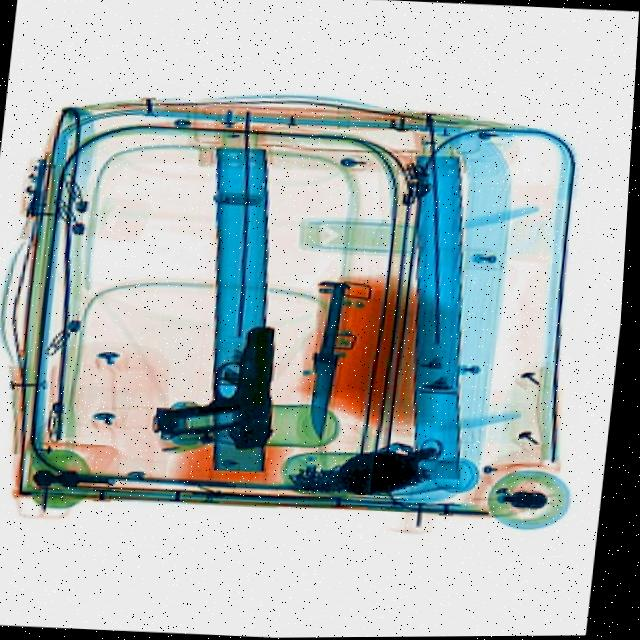grenade: (342, 435, 452, 499)
knife: (298, 261, 363, 443)
pistol: (158, 321, 284, 452)
